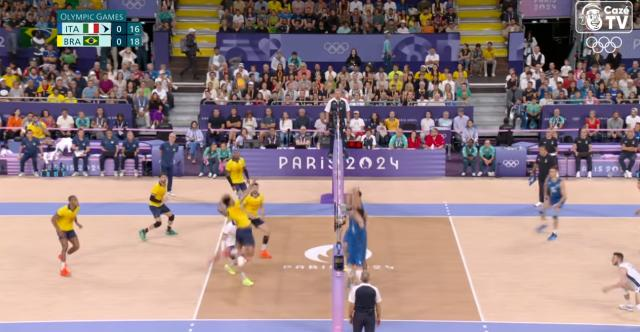Levantador: (148, 174, 174, 232)
Libero: (609, 254, 639, 310), (223, 217, 239, 266)
bola: (235, 79, 248, 91)
